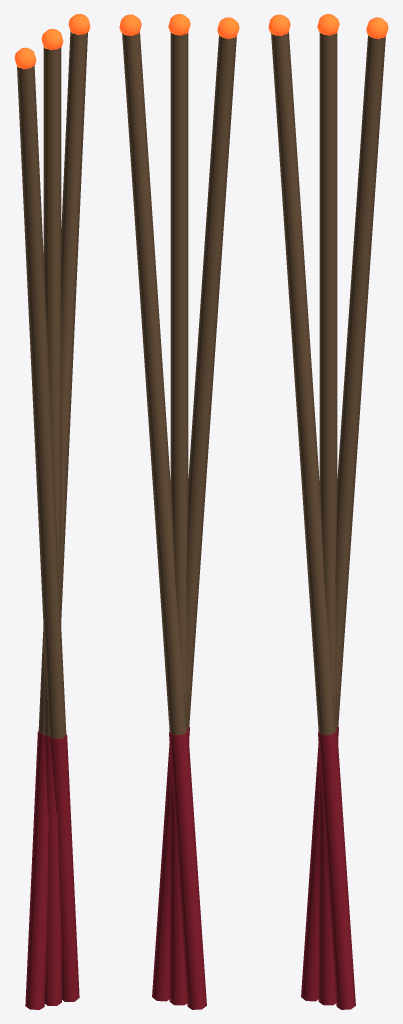
The model's file is incense.glb.
3 views of the same model, side by side, from view 1: azimuth 30°, elevation 25°; view 2: azimuth 150°, elevation 25°; view 3: azimuth 330°, elevation 25° (orthographic).
Parts seen in each view (by area): view 1: incense_sticks, incense_ember; view 2: incense_sticks, incense_ember; view 3: incense_sticks, incense_ember.
Part boxes in pixels (x1,y1,x2,y2): incense_sticks: (17,31,87,1009); incense_ember: (14,14,90,69); incense_sticks: (122,32,236,1009); incense_ember: (119,14,239,38); incense_sticks: (271,32,385,1009); incense_ember: (268,14,388,38).
Bounding box in the file's own units: 0.0434 × 0.4247 × 0.0258.
